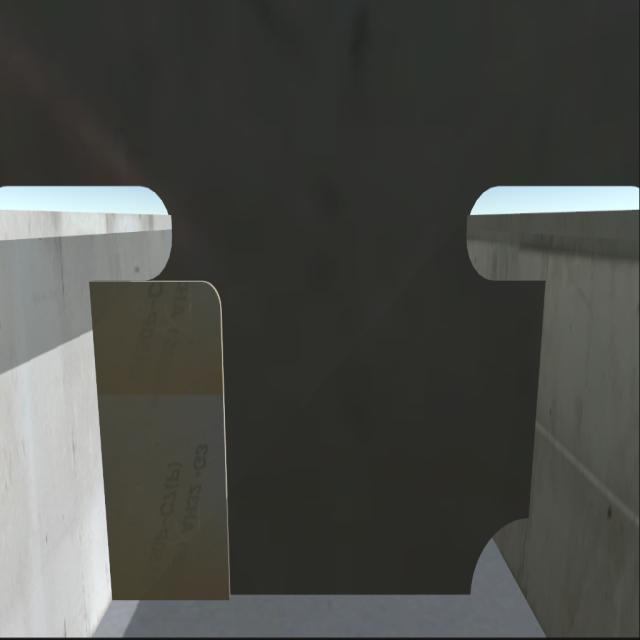fillet_hole: (464, 518, 526, 592)
fillet_yong_jeop_jang: (106, 574, 482, 612)
longi_yong_jeop_jang: (518, 272, 554, 530), (91, 279, 111, 604)
plate_CP05: (104, 274, 236, 596)
